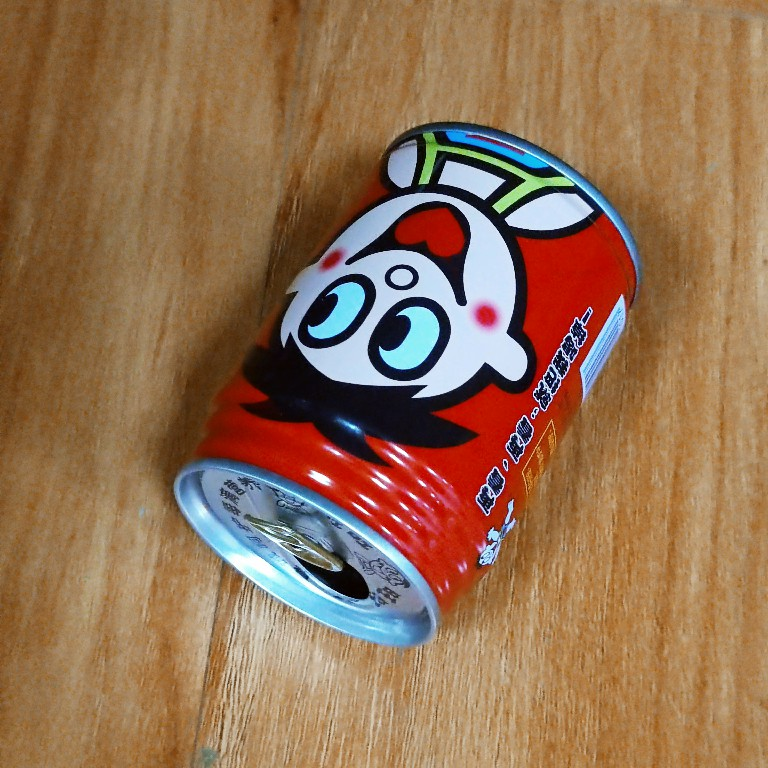can: (170, 116, 644, 652)
